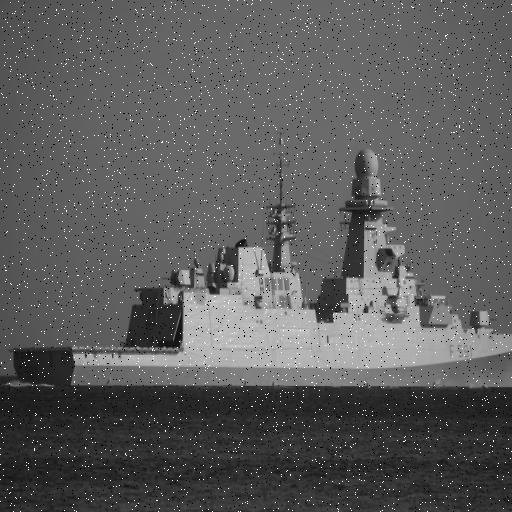Fragata: (15, 124, 512, 397)
